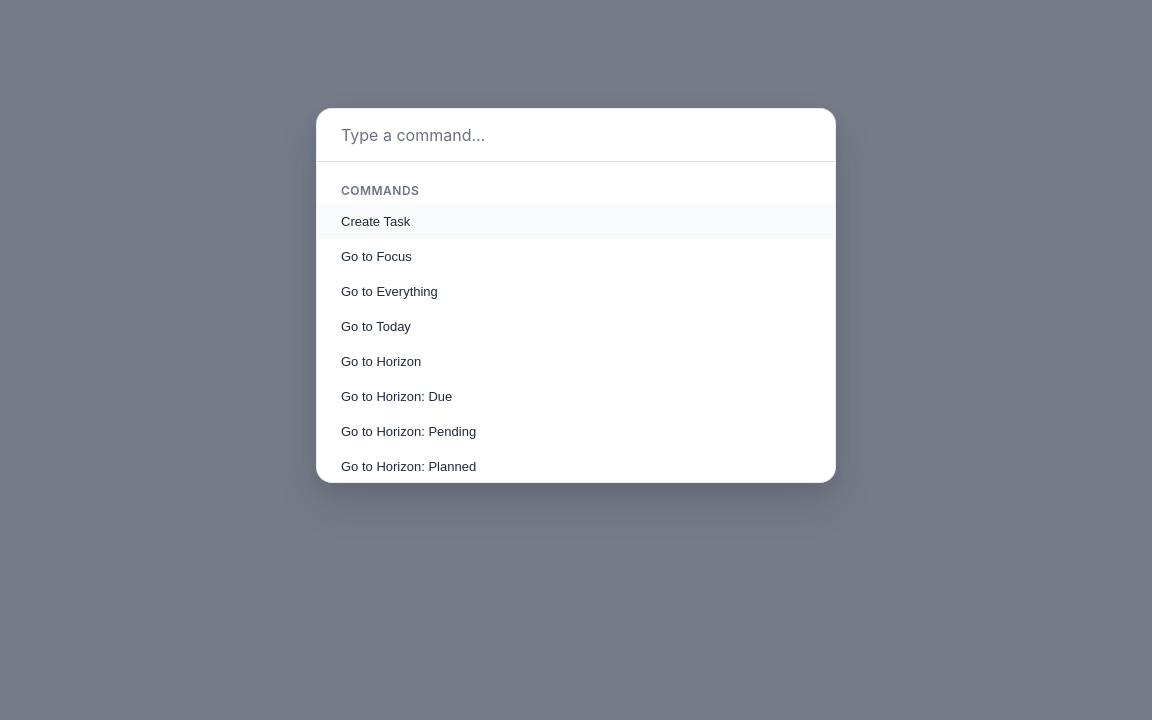
Test case: CommandPalette › filters commands by query matching label
Type "dark" into the field with placeholder "Type a command…" at (576, 136), box [317,109,835,162]
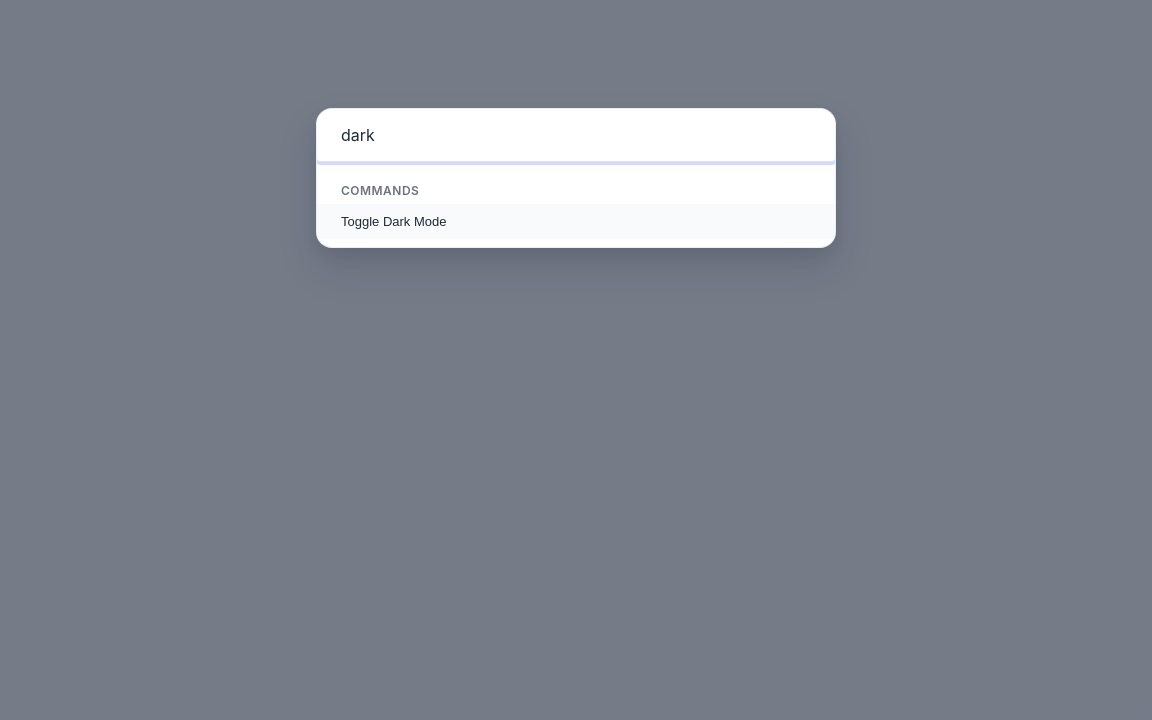
Check: the text "Toggle Dark Mode" is shown, box [341,214,446,229]
Check: the option "Create Task" is gone
